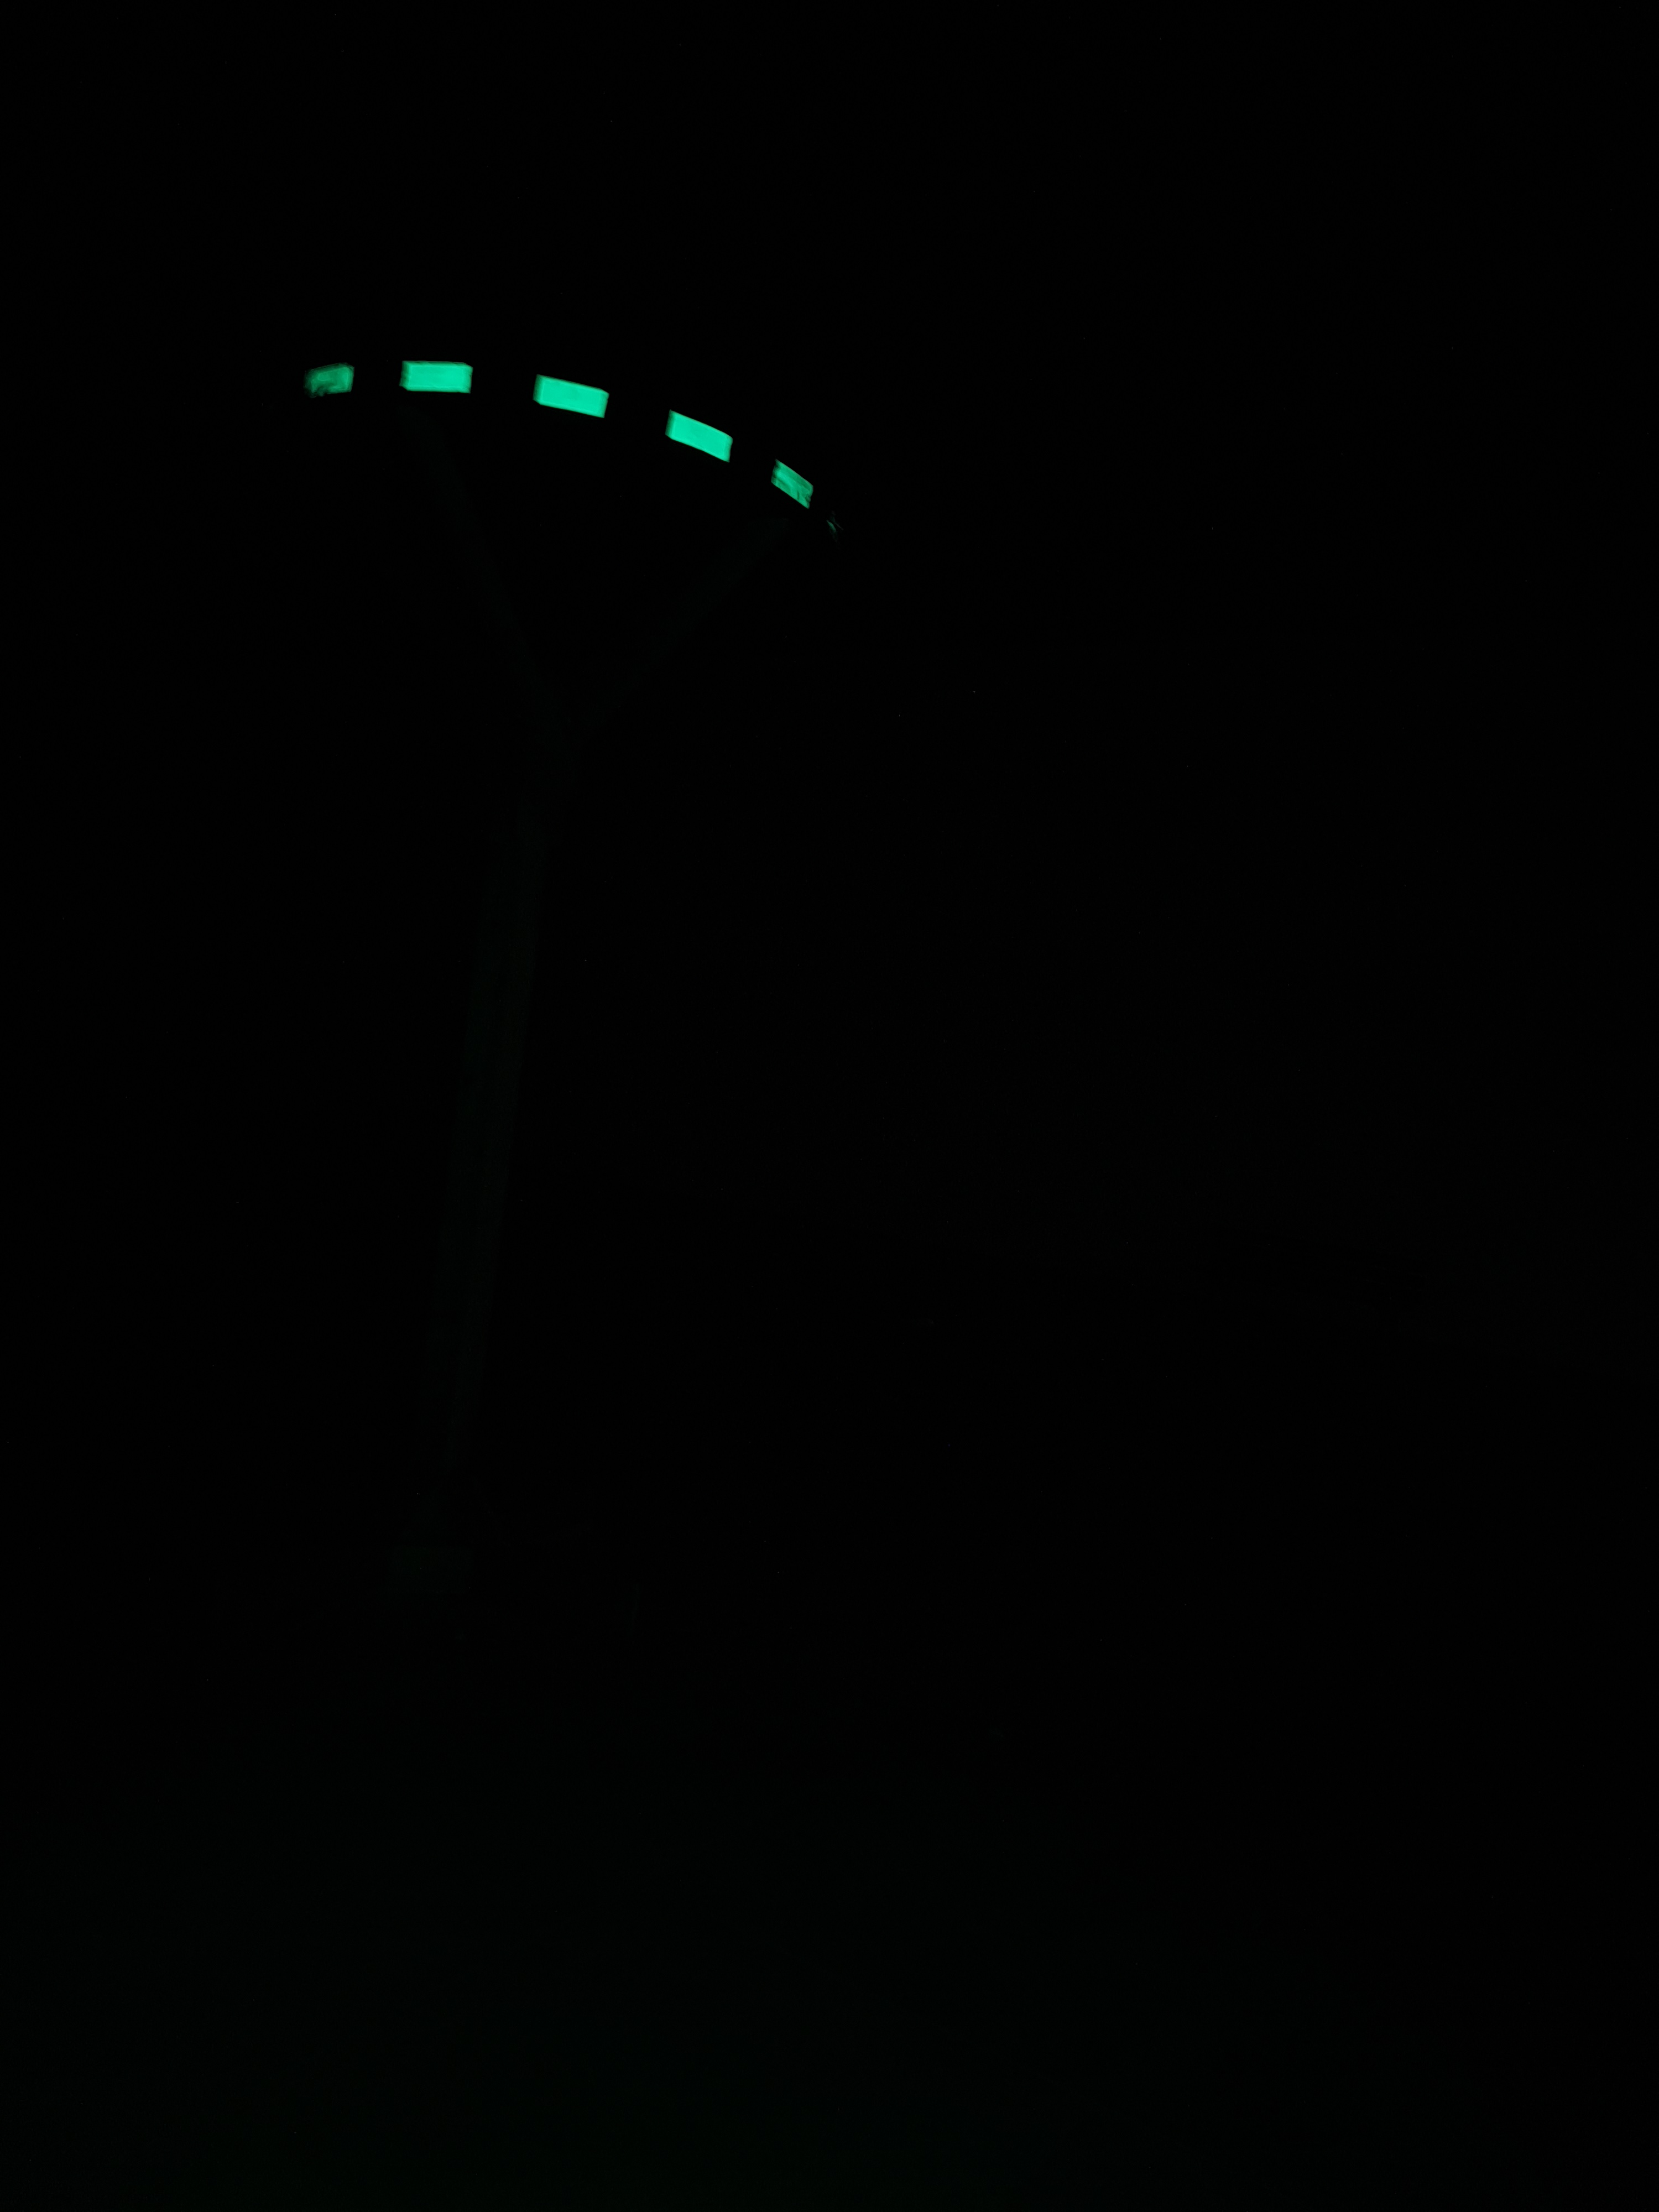hoop: (307, 359, 817, 516)
